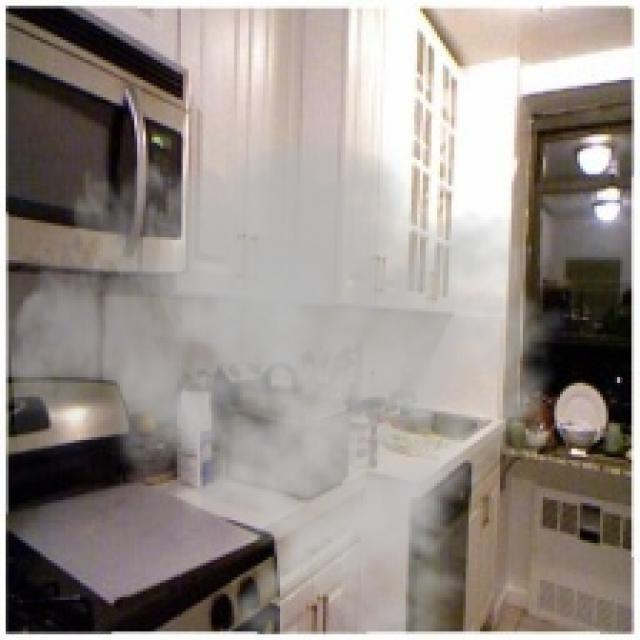smoke: (9, 89, 572, 632)
